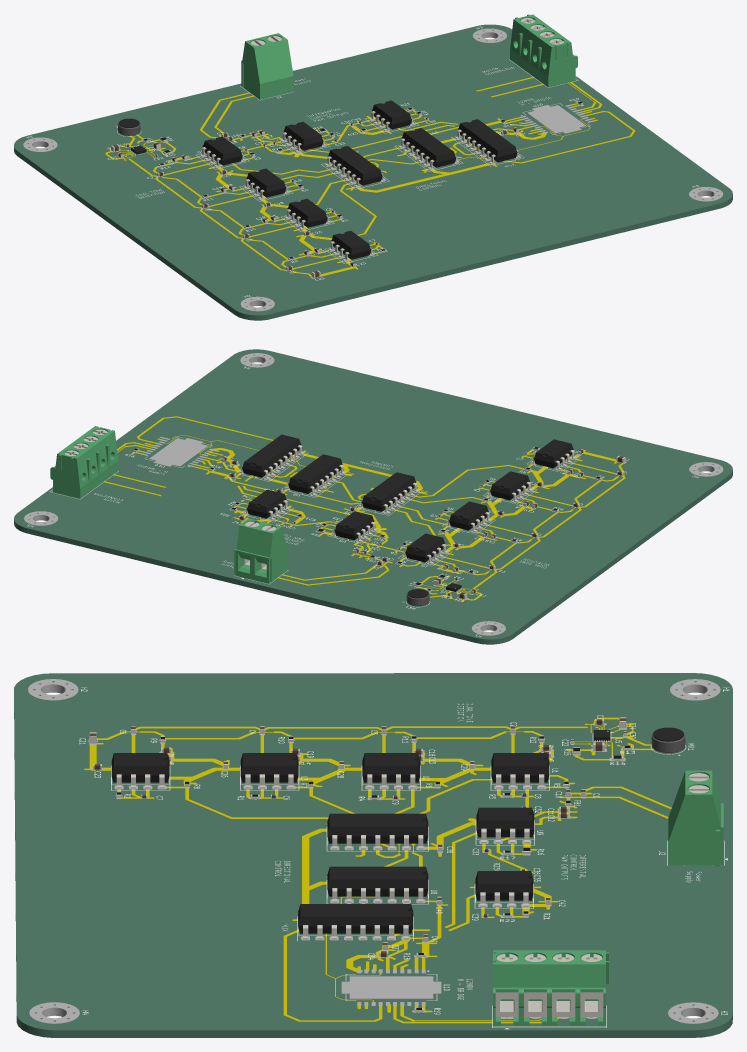
The model's file is audio_car.glb.
3 views of the same model, one above another, from view 1: azimuth 30°, elevation 25°; view 2: azimuth 150°, elevation 25°; view 3: azimuth 270°, elevation 25° (orthographic). The views are drawn at different scales.
Parts seen in each view (by area): view 1: =>[0:1:1:32], =>[0:1:1:28], =>[0:1:1:23] (×6), =>[0:1:1:29], =>[0:1:1:17], =>[0:1:1:7], =>[0:1:1:13] (×2), =>[0:1:1:31], =>[0:1:1:15]; view 2: =>[0:1:1:32], =>[0:1:1:28], =>[0:1:1:23] (×6), =>[0:1:1:29], =>[0:1:1:17], =>[0:1:1:7], =>[0:1:1:13] (×2), =>[0:1:1:31], =>[0:1:1:15]; view 3: =>[0:1:1:32], =>[0:1:1:28], =>[0:1:1:23] (×6), =>[0:1:1:29], =>[0:1:1:17], =>[0:1:1:13] (×2), =>[0:1:1:31], =>[0:1:1:7], =>[0:1:1:15], =>[0:1:1:25].
Part boxes in pixels (left/top/right/bottom): =>[0:1:1:32]: left=14, top=24, right=732, bottom=320; =>[0:1:1:28]: left=105, top=77, right=635, bottom=276; =>[0:1:1:23] (×6): left=199, top=100, right=414, bottom=261; =>[0:1:1:29]: left=23, top=28, right=723, bottom=311; =>[0:1:1:17]: left=510, top=14, right=577, bottom=87; =>[0:1:1:7]: left=241, top=33, right=293, bottom=99; =>[0:1:1:13] (×2): left=325, top=128, right=458, bottom=187; =>[0:1:1:31]: left=27, top=26, right=698, bottom=297; =>[0:1:1:15]: left=455, top=119, right=520, bottom=164; =>[0:1:1:32]: left=14, top=349, right=732, bottom=644; =>[0:1:1:28]: left=104, top=416, right=625, bottom=601; =>[0:1:1:23] (×6): left=244, top=439, right=576, bottom=564; =>[0:1:1:29]: left=24, top=353, right=723, bottom=635; =>[0:1:1:17]: left=50, top=426, right=118, bottom=498; =>[0:1:1:7]: left=234, top=518, right=287, bottom=583; =>[0:1:1:13] (×2): left=285, top=454, right=419, bottom=513; =>[0:1:1:31]: left=27, top=366, right=699, bottom=636; =>[0:1:1:15]: left=239, top=434, right=304, bottom=479; =>[0:1:1:32]: left=14, top=673, right=732, bottom=1037; =>[0:1:1:28]: left=84, top=717, right=671, bottom=1023; =>[0:1:1:23] (×6): left=111, top=753, right=549, bottom=906; =>[0:1:1:29]: left=28, top=679, right=720, bottom=1023; =>[0:1:1:17]: left=493, top=950, right=608, bottom=1025; =>[0:1:1:13] (×2): left=327, top=813, right=428, bottom=902; =>[0:1:1:31]: left=79, top=687, right=729, bottom=1029; =>[0:1:1:7]: left=668, top=770, right=723, bottom=866; =>[0:1:1:15]: left=298, top=904, right=413, bottom=939; =>[0:1:1:25]: left=651, top=727, right=685, bottom=752.
Size of the model in its own units: 0.1499 by 0.0174 by 0.1275.
